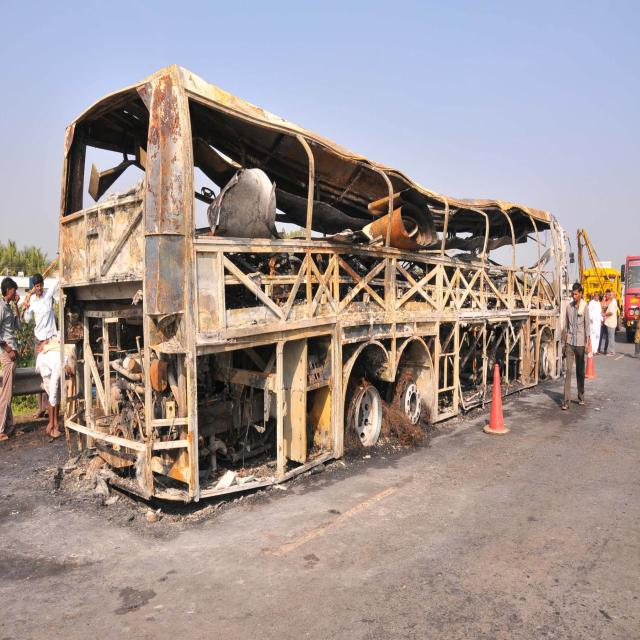accident: (59, 66, 570, 502)
bus: (621, 256, 640, 342)
